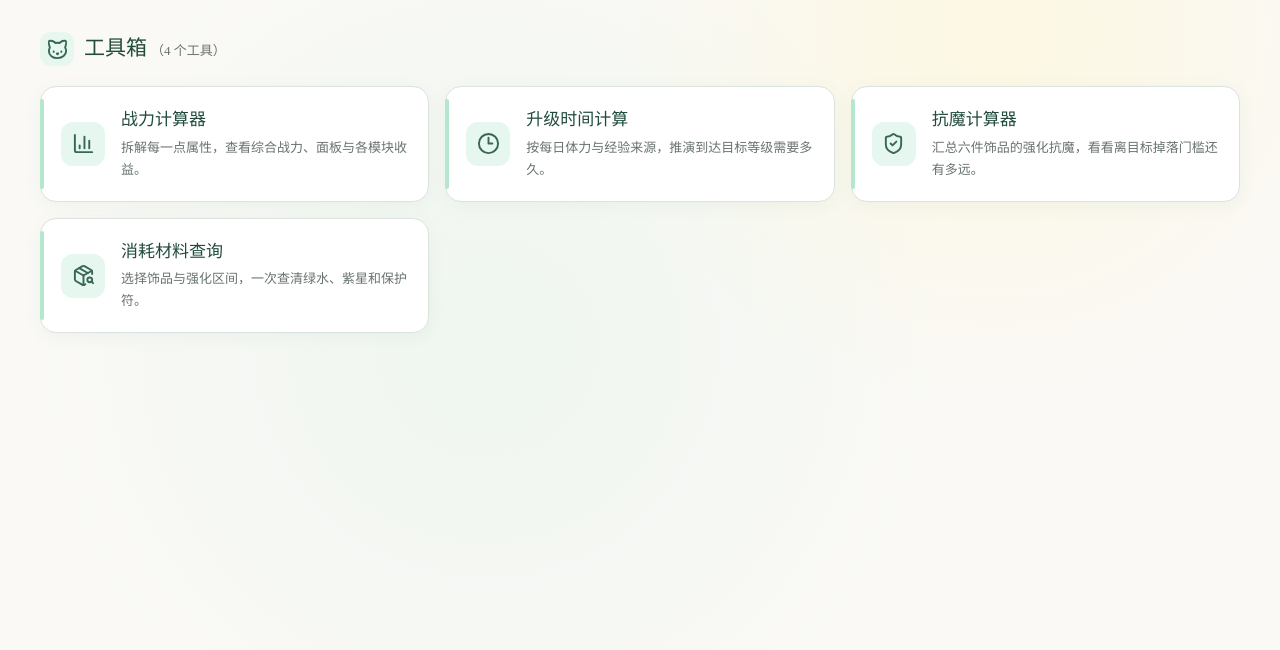
Scenario: 首页快捷导航 › 首页卡片可以进入 upgrade，回首页后恢复根地址
This screenshot has width=1280, height=650.
What coordinates should you click on to do the following:
click the link with aria-label "进入升级时间计算"
I would click on:
 (640, 144)
Its box is x1=445 y1=86 x2=835 y2=202.
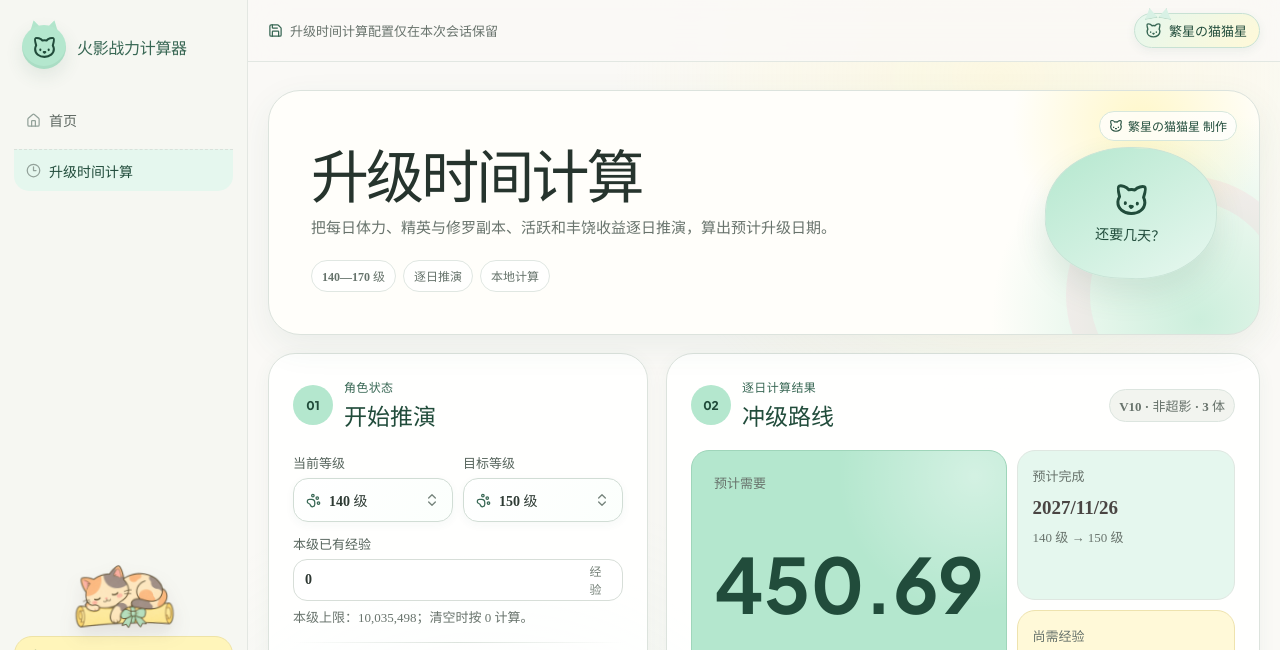
expect the button "首页" is shown: met
expect the button "升级时间计算" is shown: met, box x1=14 y1=149 x2=233 y2=191
expect the link "抗魔计算器" is gone: met
What coordinates should you click on to do the following:
click the button "首页"
I would click on:
 (124, 120)
Its box is x1=14 y1=99 x2=233 y2=141.
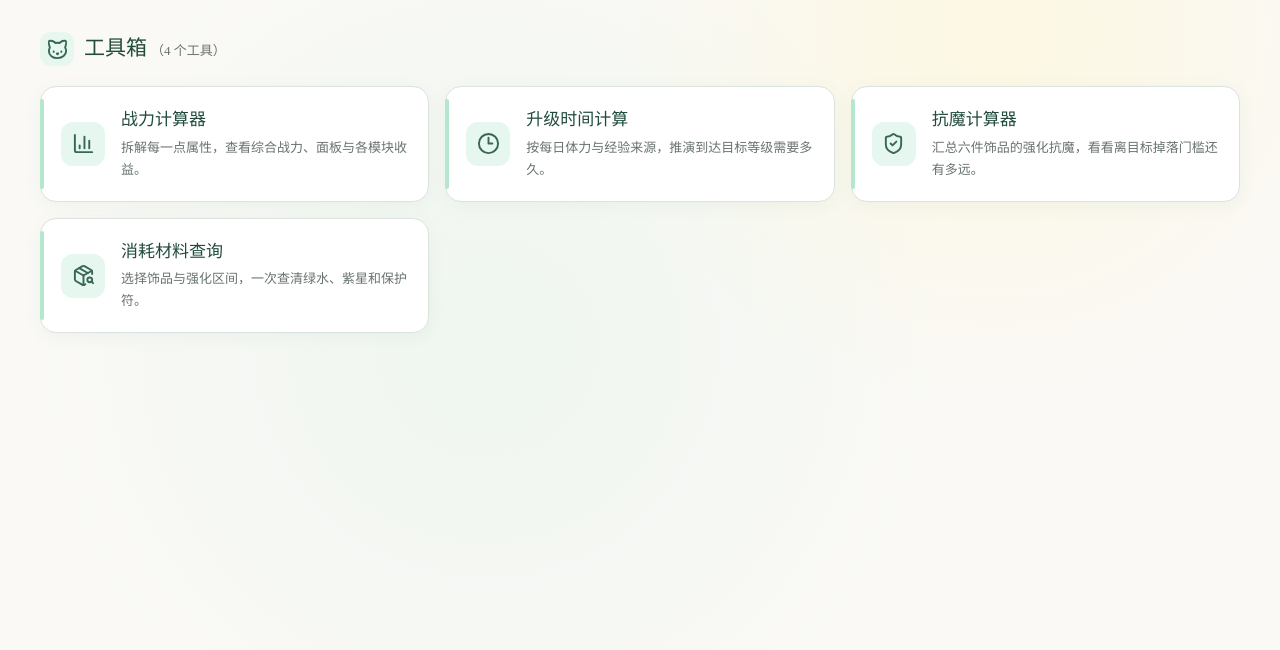
expect the heading named "工具箱（4 个工具）" is shown: met, box x1=84 y1=33 x2=226 y2=65
expect the navigation bar "页面导航" is gone: met
